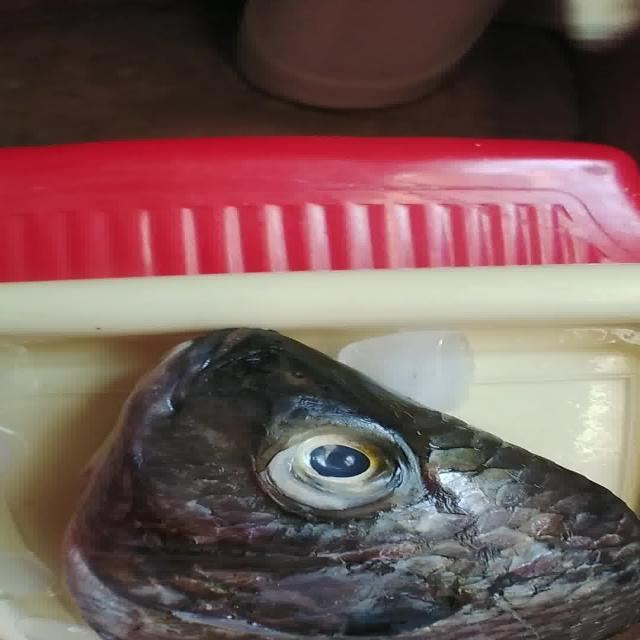Fresh: (231, 404, 492, 544)
